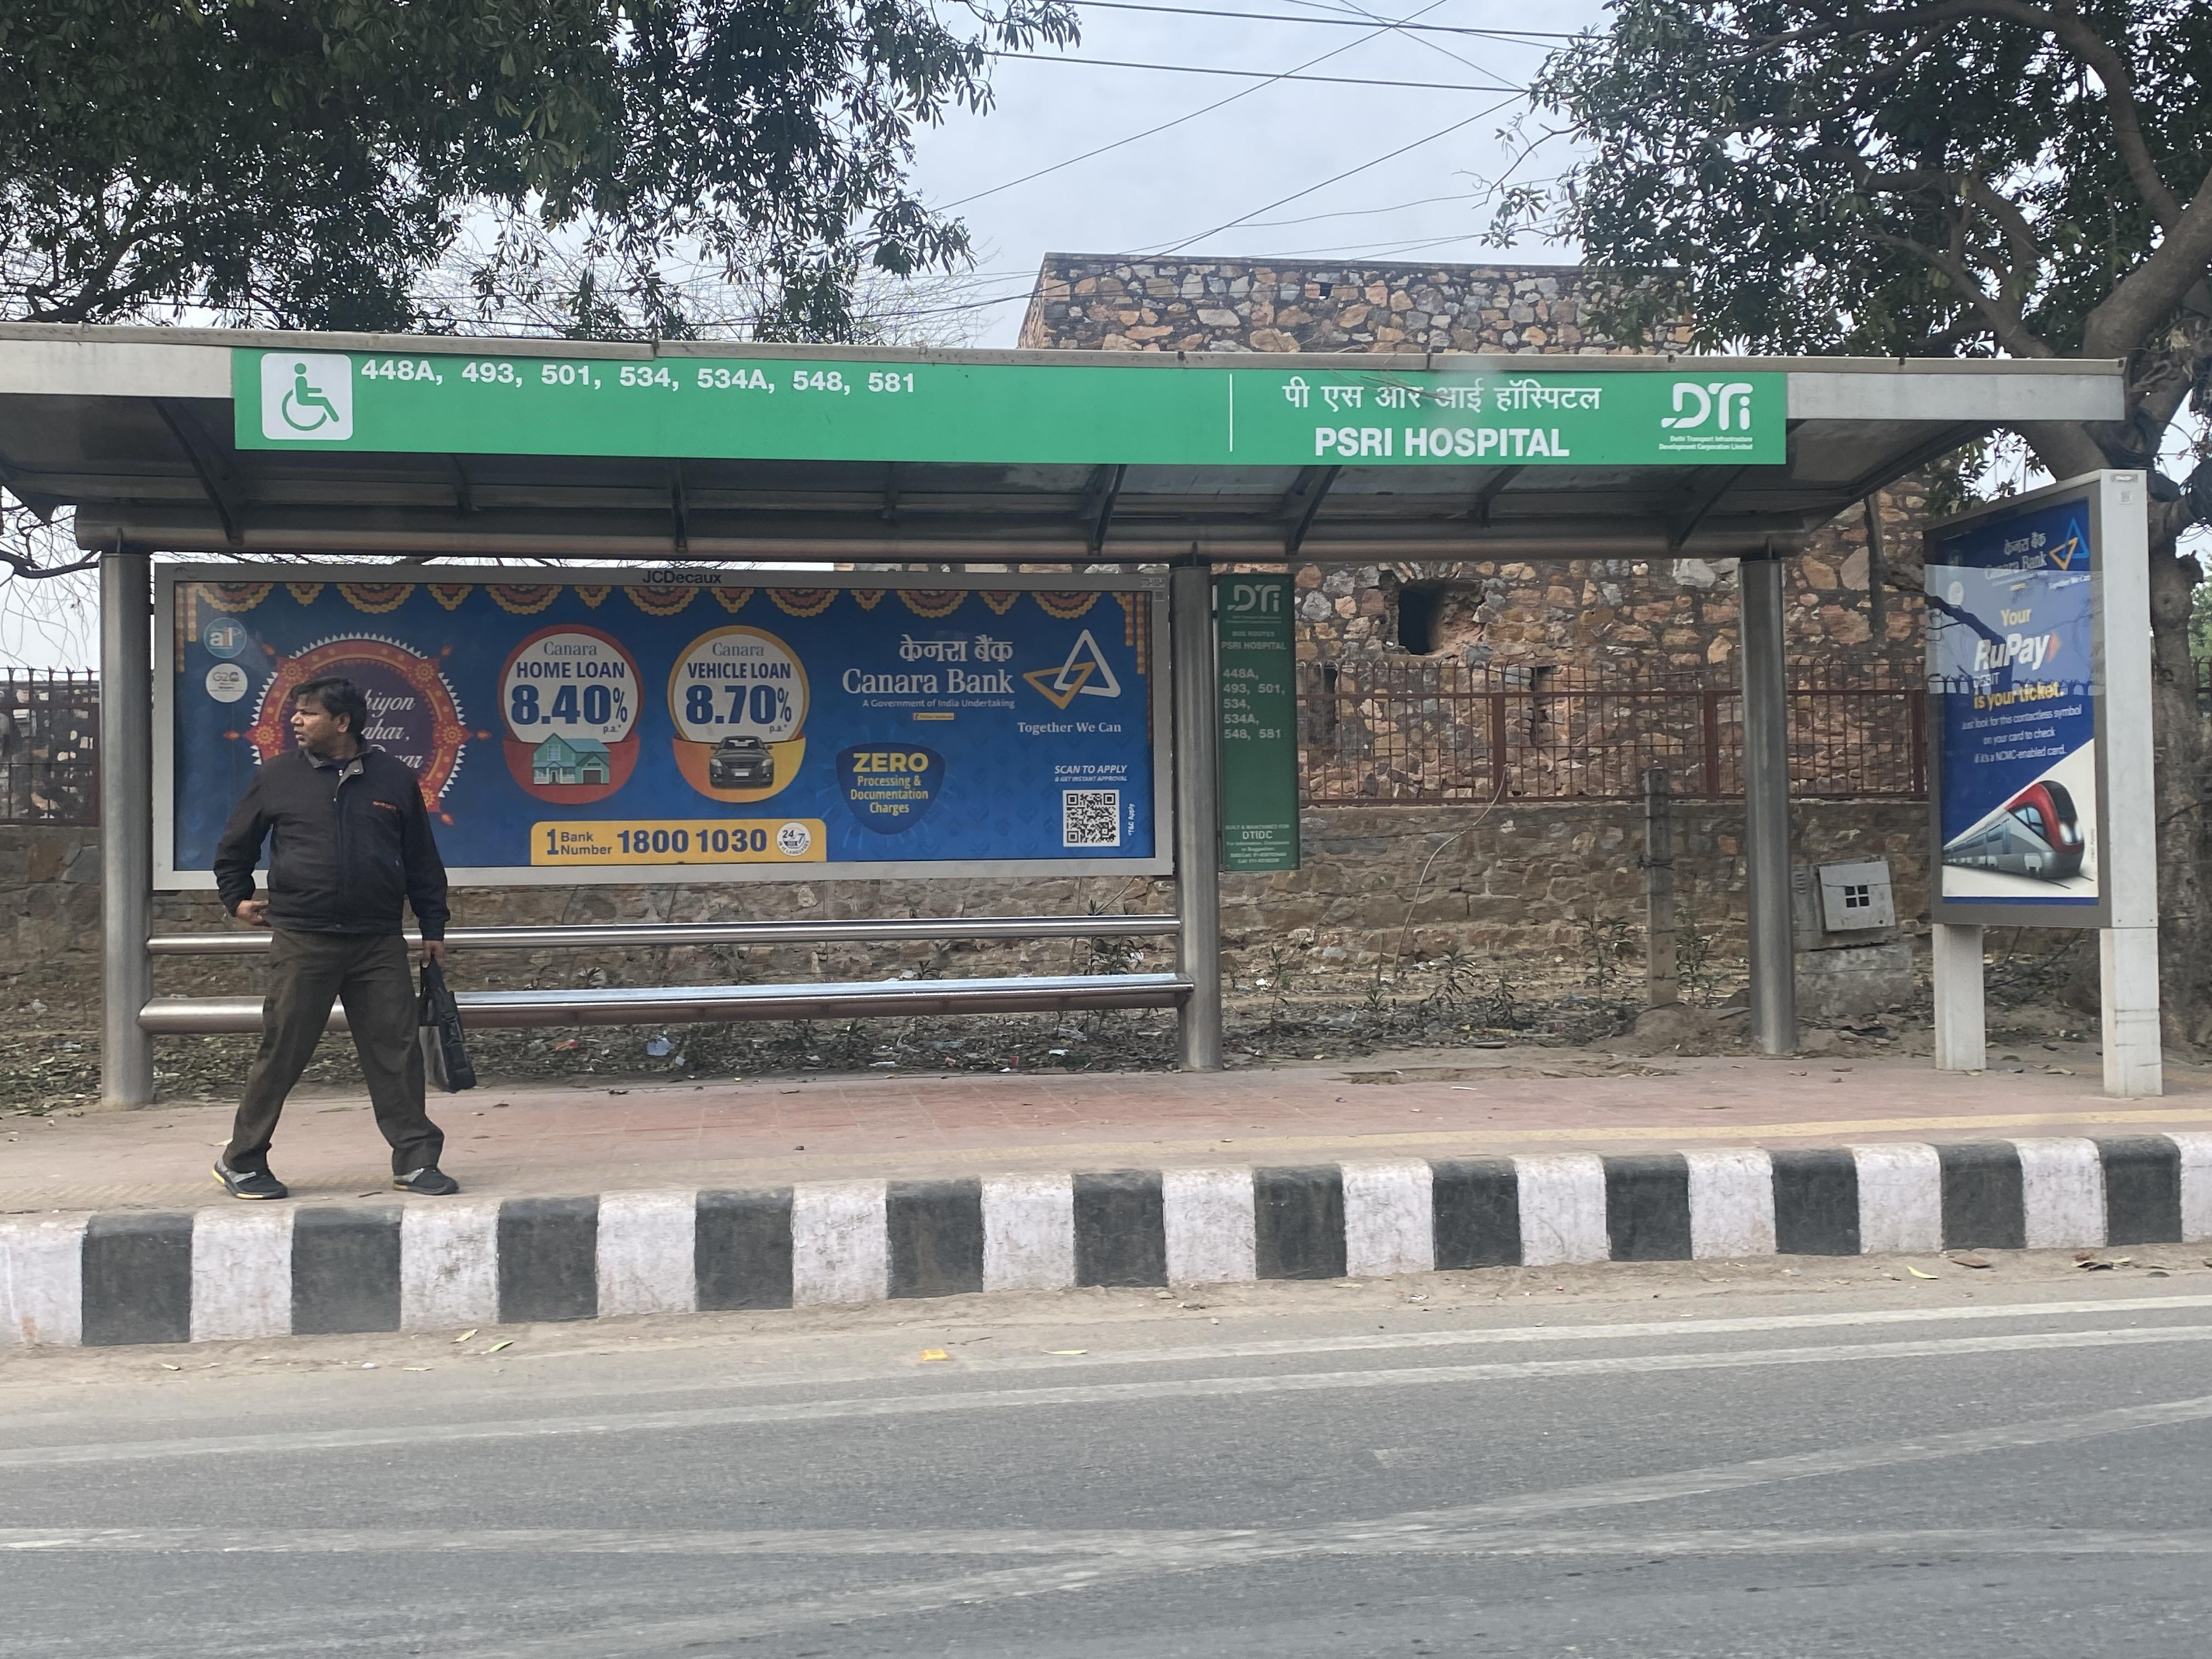Bus-stop-board: (209, 329, 1804, 488)
